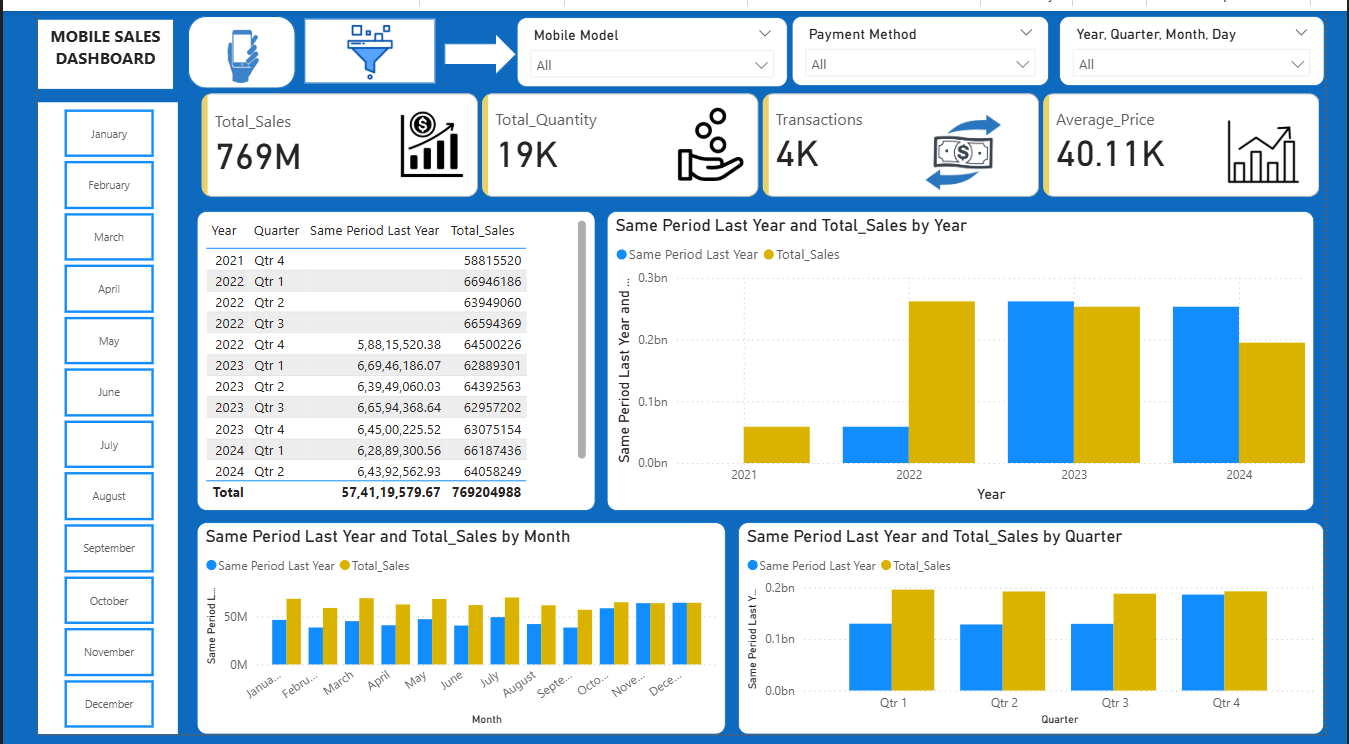

Layout of this report page (visuals, bound fields, positions):
{"tool":"powerbi","page":{"name":"Same Period Last Year","canvas":[1280,720],"ordinal":2},"visuals":[{"type":"shape","box":[149.3,5,107,72.1],"z":0},{"type":"image","box":[139.3,0,128.1,99.5],"z":1000},{"type":"cardVisual","fields":{"Data":["Sales_Data.Total_Sales","Sales_Data.Total_Quantity","Sales_Data.Transactions","Sales_Data.Average_Price"]},"box":[158,77.1,1122.1,113.2],"z":2000},{"type":"slicer","fields":{"Values":["Sales_Data.Mobile Model"]},"box":[476.4,6.2,269.9,69.7],"z":3000},{"type":"slicer","fields":{"Values":["Sales_Data.Payment Method"]},"box":[750.1,5,256.3,69.7],"z":4000},{"type":"slicer","fields":{"Values":["Custom_Calendar.Date.Variation.Date Hierarchy.Year","Custom_Calendar.Date.Variation.Date Hierarchy.Quarter","Custom_Calendar.Date.Variation.Date Hierarchy.Month","Custom_Calendar.Date.Variation.Date Hierarchy.Day"]},"box":[1016.3,5,263.7,69.7],"z":5000},{"type":"shape","box":[265,7.5,130.6,64.7],"z":6000},{"type":"image","box":[272.4,8.7,115.7,64.7],"z":7000},{"type":"shape","box":[404.3,21.1,72.1,43.5],"z":8000},{"type":"textbox","box":[0,8.7,134.3,68.4],"z":9000},{"type":"slicer","fields":{"Values":["Custom_Calendar.Date.Variation.Date Hierarchy.Month"]},"box":[0,90.8,139.3,629.4],"z":11000},{"type":"tableEx","fields":{"Values":["Custom_Calendar.Date.Variation.Date Hierarchy.Year","Custom_Calendar.Date.Variation.Date Hierarchy.Quarter","Sales_Data.Same Period Last Year","Sales_Data.Total_Sales"]},"box":[158,199,396.8,298.6],"z":11001},{"type":"clusteredColumnChart","fields":{"Category":["Custom_Calendar.Date.Variation.Date Hierarchy.Year","Custom_Calendar.Date.Variation.Date Hierarchy.Quarter"],"Y":["Sales_Data.Same Period Last Year","Sales_Data.Total_Sales"]},"box":[566,199,704.1,298.6],"z":11002},{"type":"clusteredColumnChart","fields":{"Category":["Custom_Calendar.Date.Variation.Date Hierarchy.Year","Custom_Calendar.Date.Variation.Date Hierarchy.Quarter"],"Y":["Sales_Data.Same Period Last Year","Sales_Data.Total_Sales"]},"box":[696.6,508.8,583.4,211.5],"z":11003},{"type":"clusteredColumnChart","fields":{"Category":["Custom_Calendar.Date.Variation.Date Hierarchy.Year","Custom_Calendar.Date.Variation.Date Hierarchy.Quarter","Custom_Calendar.Date.Variation.Date Hierarchy.Month"],"Y":["Sales_Data.Same Period Last Year","Sales_Data.Total_Sales"]},"box":[158,508.8,526.2,211.5],"z":11004}]}

Visuals, with their boxes in screenshot pixels (x1, y1, x2, y2), scaled from the page's 1280x720 canvas onto the 1349x744 screenshot:
shape: (157, 5, 270, 80)
image: (147, 0, 282, 103)
cardVisual - Sales_Data.Total_Sales x Sales_Data.Total_Quantity: (167, 80, 1348, 197)
slicer - Sales_Data.Mobile Model: (502, 6, 787, 78)
slicer - Sales_Data.Payment Method: (791, 5, 1061, 77)
slicer - Custom_Calendar.Date.Variation.Date Hierarchy.Year x Custom_Calendar.Date.Variation.Date Hierarchy.Quarter: (1071, 5, 1348, 77)
shape: (279, 8, 417, 75)
image: (287, 9, 409, 76)
shape: (426, 22, 502, 67)
textbox: (0, 9, 142, 80)
slicer - Custom_Calendar.Date.Variation.Date Hierarchy.Month: (0, 94, 147, 743)
tableEx - Custom_Calendar.Date.Variation.Date Hierarchy.Year x Custom_Calendar.Date.Variation.Date Hierarchy.Quarter: (167, 206, 585, 514)
clusteredColumnChart - Custom_Calendar.Date.Variation.Date Hierarchy.Year x Custom_Calendar.Date.Variation.Date Hierarchy.Quarter: (597, 206, 1339, 514)
clusteredColumnChart - Custom_Calendar.Date.Variation.Date Hierarchy.Year x Custom_Calendar.Date.Variation.Date Hierarchy.Quarter: (734, 526, 1348, 743)
clusteredColumnChart - Custom_Calendar.Date.Variation.Date Hierarchy.Year x Custom_Calendar.Date.Variation.Date Hierarchy.Quarter: (167, 526, 721, 743)
